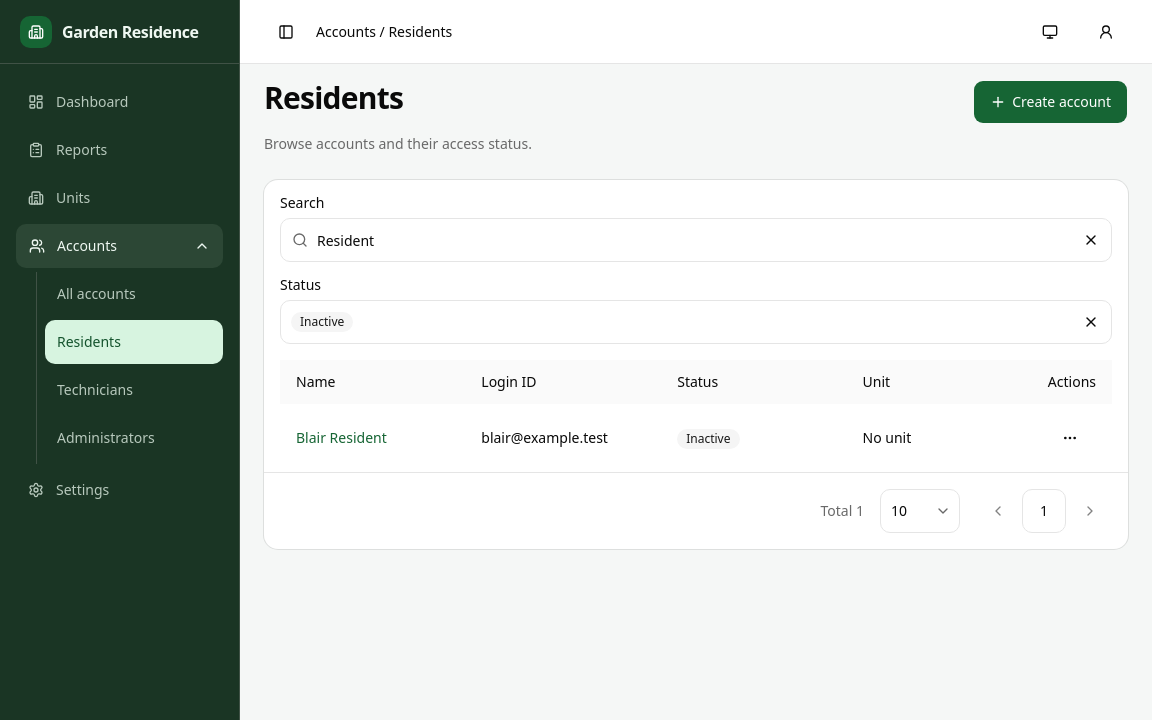
Test: resets all filters when switching role views with collapsed sidebar false
Check: the table named "Residents" is shown, box [280,360,1112,472]
Click the link "Technicians".
click(95, 390)  # box [57,380,133,399]
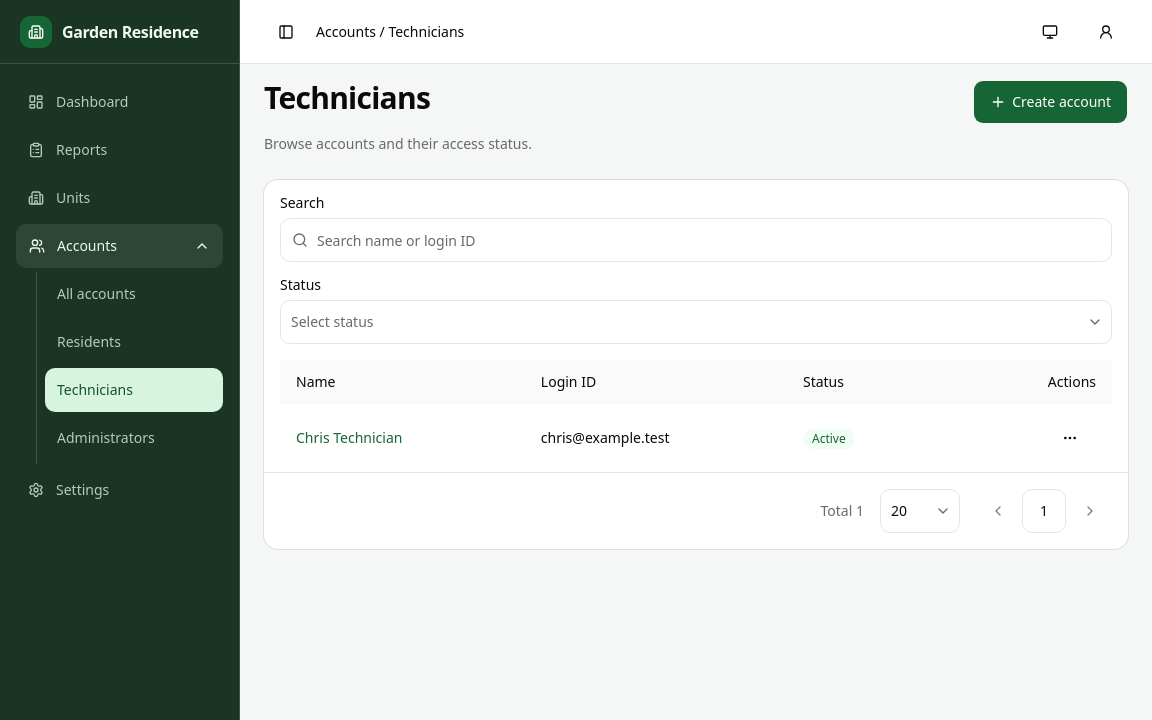
Check: the table named "Technicians" is shown, box [280,360,1112,472]
Check: the search field labelled "Search" is empty, box [280,218,1112,262]
Check: the dropdown labelled "status" shows "Select status", box [280,300,1112,344]
